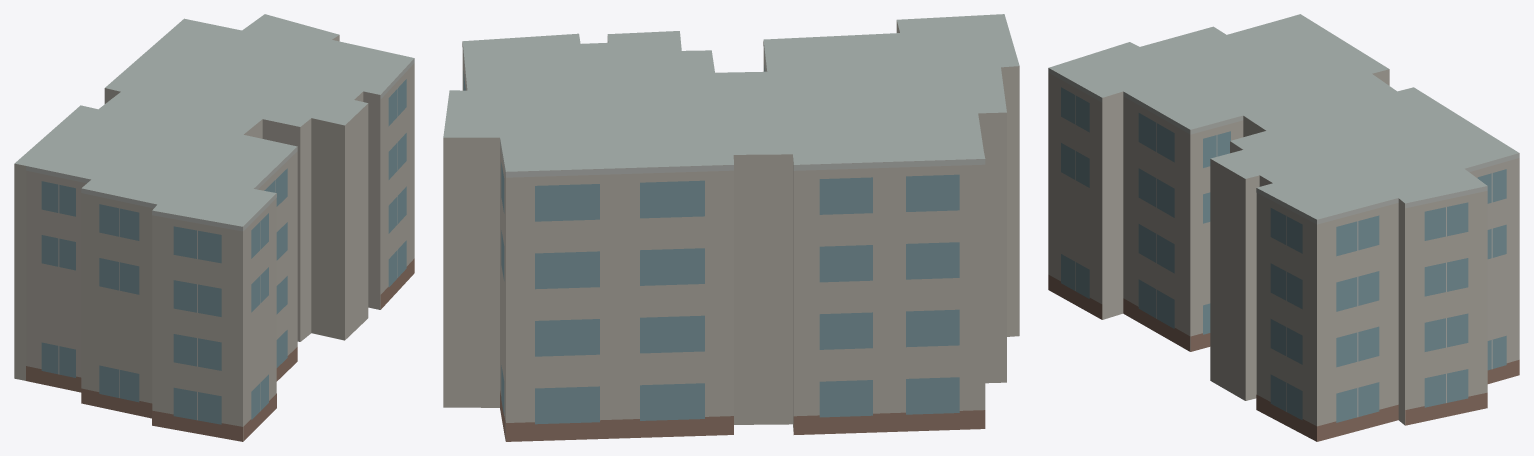
The model's file is survey-upis-32973296.glb.
3 views of the same model, side by side, from view 1: azimuth 30°, elevation 25°; view 2: azimuth 150°, elevation 25°; view 3: azimuth 270°, elevation 25° (orthographic). The views are drawn at different scales.
Parts seen in each view (by area): view 1: survey-upis-32973296.tmp; view 2: survey-upis-32973296.tmp; view 3: survey-upis-32973296.tmp.
Boxes of the visible parts, bbox=[...] form: survey-upis-32973296.tmp: bbox=[14, 14, 414, 441]; survey-upis-32973296.tmp: bbox=[443, 14, 1019, 441]; survey-upis-32973296.tmp: bbox=[1048, 14, 1519, 441].
Bounding box in the file's own units: 22.23 × 11.19 × 21.51.
